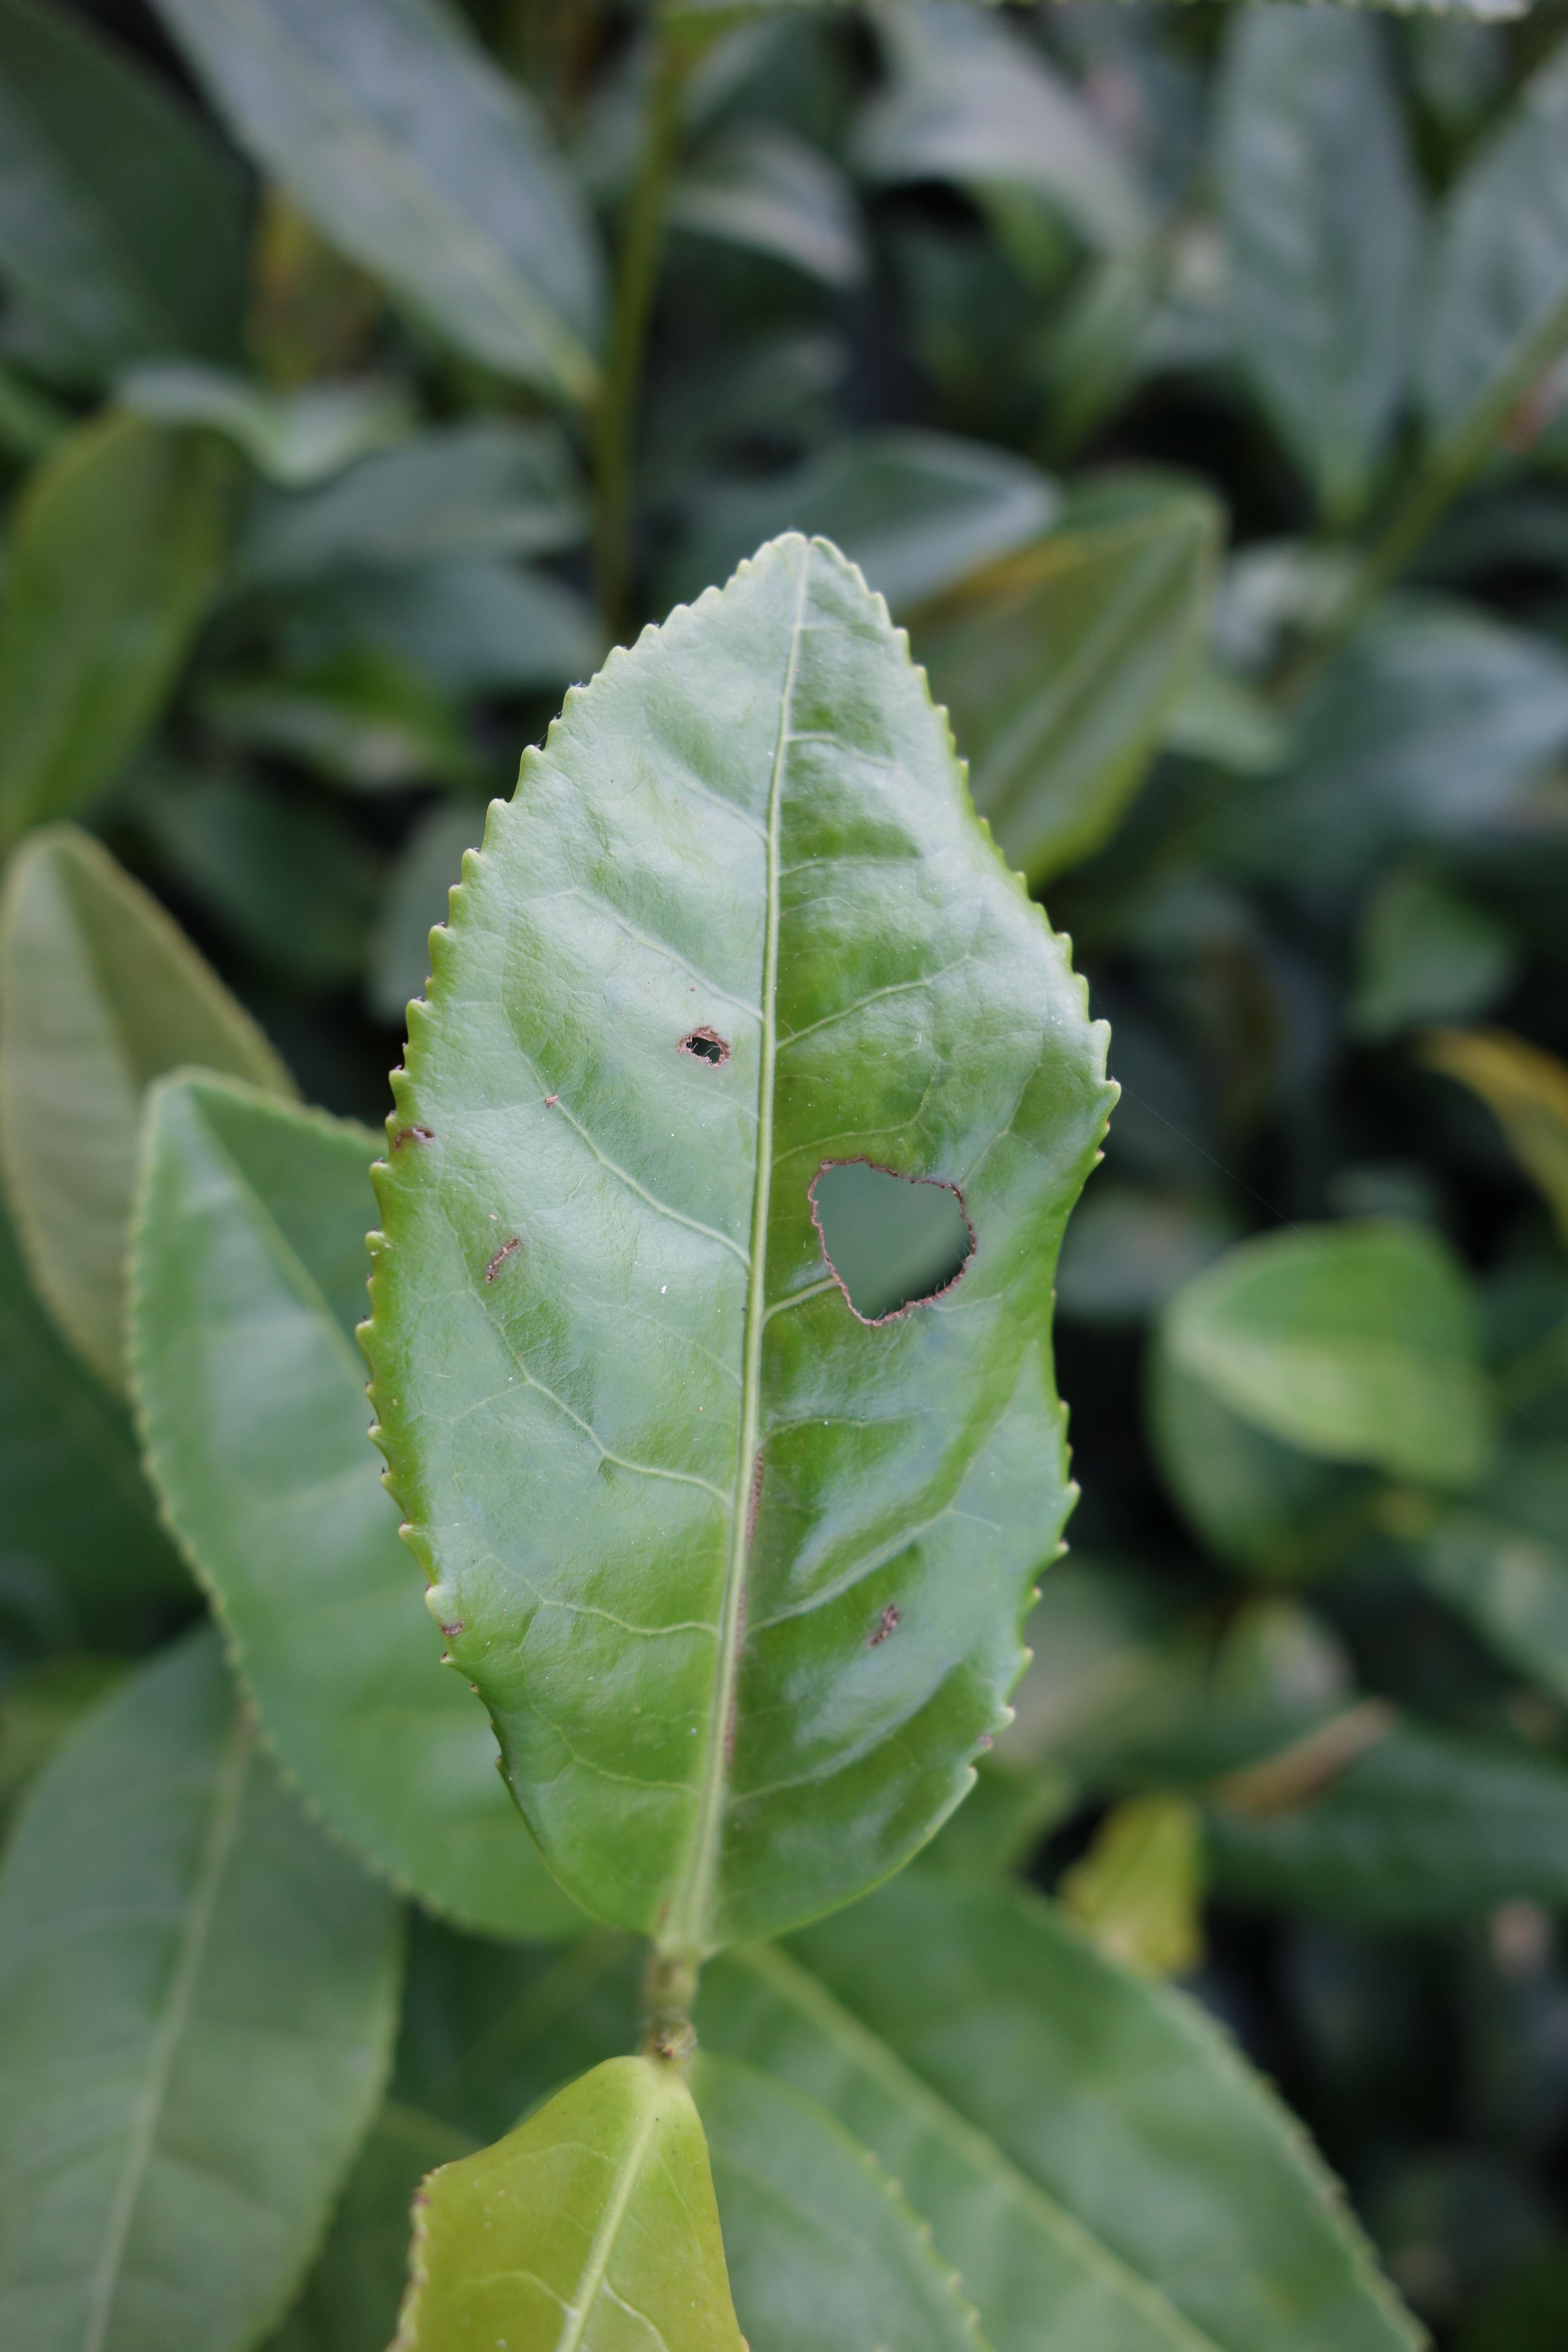chihuo_high: (357, 528, 1130, 1981)
